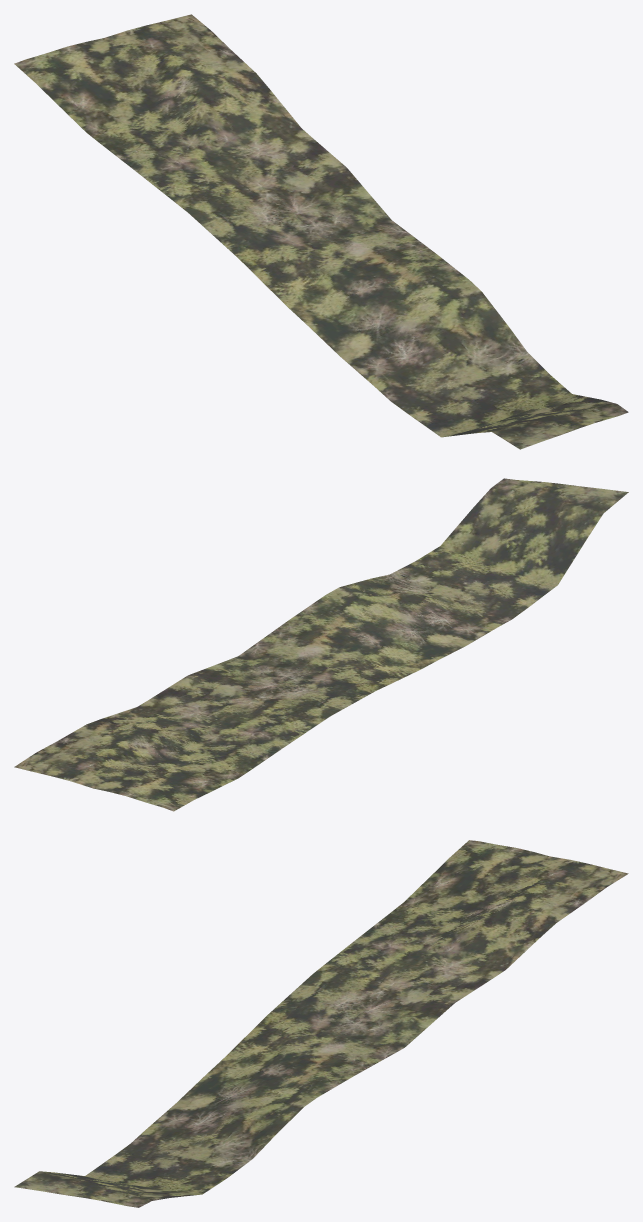
File: CM_Terrain_24493940_6813855.fbx
3 views of the same model, one above another, from view 1: azimuth 30°, elevation 25°; view 2: azimuth 150°, elevation 25°; view 3: azimuth 330°, elevation 25° (orthographic). The views are drawn at different scales.
Visible parts, largest first — view 1: CM_Terrain_24493940_6813855_LOD0; view 2: CM_Terrain_24493940_6813855_LOD0; view 3: CM_Terrain_24493940_6813855_LOD0.
Part boxes in pixels (<box>): CM_Terrain_24493940_6813855_LOD0: <box>14,14,628,449</box>; CM_Terrain_24493940_6813855_LOD0: <box>14,478,628,811</box>; CM_Terrain_24493940_6813855_LOD0: <box>14,840,628,1207</box>.
Size of what is drawn, in the model's own units: 30.35 by 11.17 by 150.
